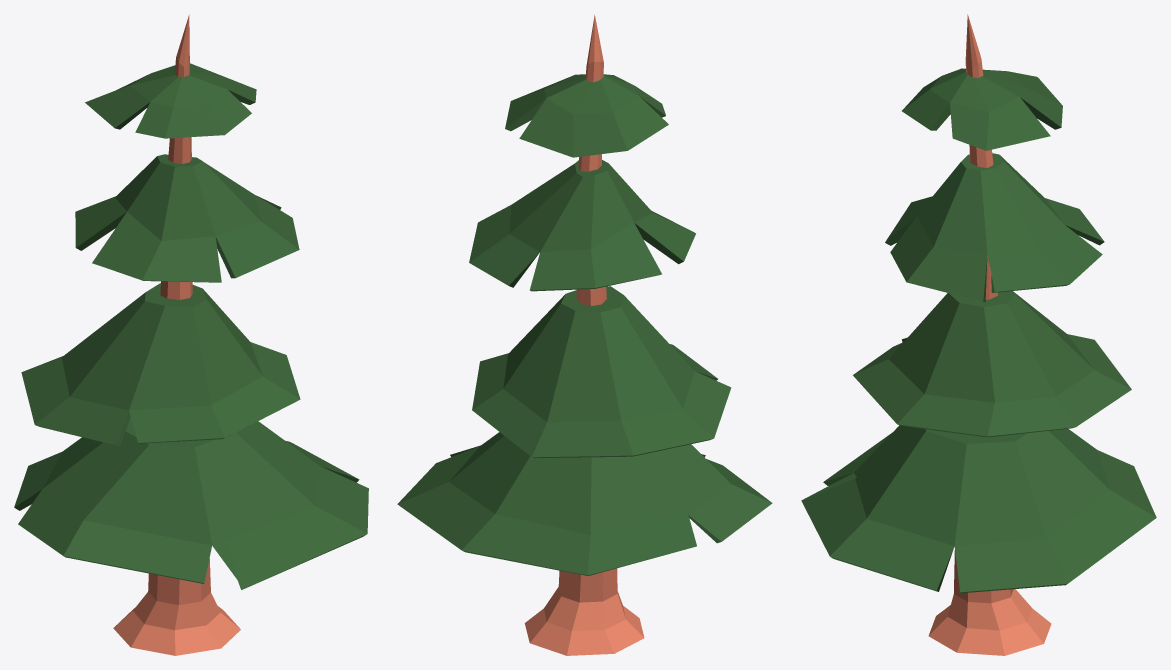
File: Tree-3.fbx
3 renders of one model, left to right at view 1: azimuth 30°, elevation 25°; view 2: azimuth 150°, elevation 25°; view 3: azimuth 270°, elevation 25°, orthographic. The views are drawn at different scales.
Parts seen in each view (by area): view 1: Tree-3; view 2: Tree-3; view 3: Tree-3.
Part boxes in pixels (x1,y1,x2,y2): Tree-3: [14, 15, 368, 655]; Tree-3: [397, 14, 772, 655]; Tree-3: [801, 14, 1156, 655].
Size of the model in its own units: 12.26 by 22.77 by 11.91.
